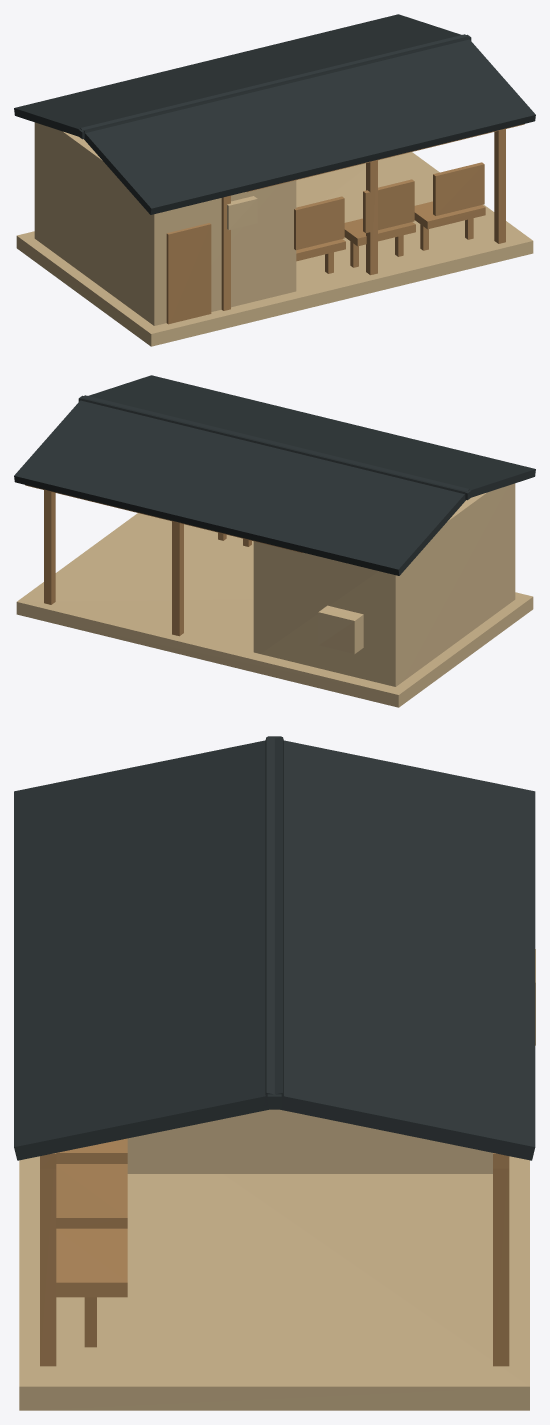
Rendered from Seed-breeding-center.glb.
The picture shows the model from 3 angles, top to bottom: view 1: azimuth 30°, elevation 25°; view 2: azimuth 150°, elevation 25°; view 3: azimuth 270°, elevation 25°; orthographic projection. The views are drawn at different scales.
Parts seen in each view (by area): view 1: seed-breeding-center-static-seed-breeding-center-charcoal-ro, seed-breeding-center-static-seed-breeding-center-pale-masonr, seed-breeding-center-static-seed-breeding-center-cream-found, seed-breeding-center-static-seed-breeding-center-muted-teal-, seed-breeding-center-static-seed-breeding-center-warm-fixed-; view 2: seed-breeding-center-static-seed-breeding-center-charcoal-ro, seed-breeding-center-static-seed-breeding-center-cream-found, seed-breeding-center-static-seed-breeding-center-pale-masonr, seed-breeding-center-static-seed-breeding-center-warm-fixed-; view 3: seed-breeding-center-static-seed-breeding-center-charcoal-ro, seed-breeding-center-static-seed-breeding-center-cream-found, seed-breeding-center-static-seed-breeding-center-warm-fixed-, seed-breeding-center-static-seed-breeding-center-pale-masonr.
Boxes of the visible parts, x1,y1,x2,y2 form: seed-breeding-center-static-seed-breeding-center-charcoal-ro: (14,14,535,214); seed-breeding-center-static-seed-breeding-center-pale-masonr: (34,122,296,325); seed-breeding-center-static-seed-breeding-center-cream-found: (16,152,533,346); seed-breeding-center-static-seed-breeding-center-muted-teal-: (166,162,484,324); seed-breeding-center-static-seed-breeding-center-warm-fixed-: (221,124,524,310); seed-breeding-center-static-seed-breeding-center-charcoal-ro: (14,375,535,575); seed-breeding-center-static-seed-breeding-center-cream-found: (16,513,533,707); seed-breeding-center-static-seed-breeding-center-pale-masonr: (253,483,515,686); seed-breeding-center-static-seed-breeding-center-warm-fixed-: (25,485,302,636); seed-breeding-center-static-seed-breeding-center-charcoal-ro: (14,736,535,1160); seed-breeding-center-static-seed-breeding-center-cream-found: (19,949,535,1410); seed-breeding-center-static-seed-breeding-center-warm-fixed-: (40,1138,509,1366); seed-breeding-center-static-seed-breeding-center-pale-masonr: (127,1109,492,1173).
Bounding box in the file's own units: 8.35 × 3.45 × 5.11.
